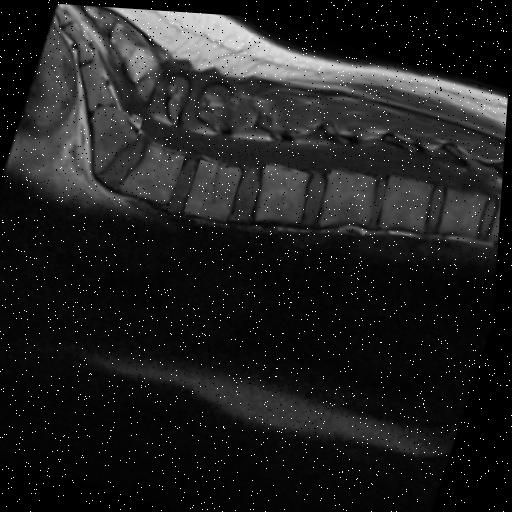L1: (382, 170, 435, 225)
L2: (320, 165, 376, 220)
L3: (257, 161, 310, 218)
L4: (186, 156, 243, 217)
L5: (123, 142, 186, 202)
S1: (92, 103, 139, 172)
